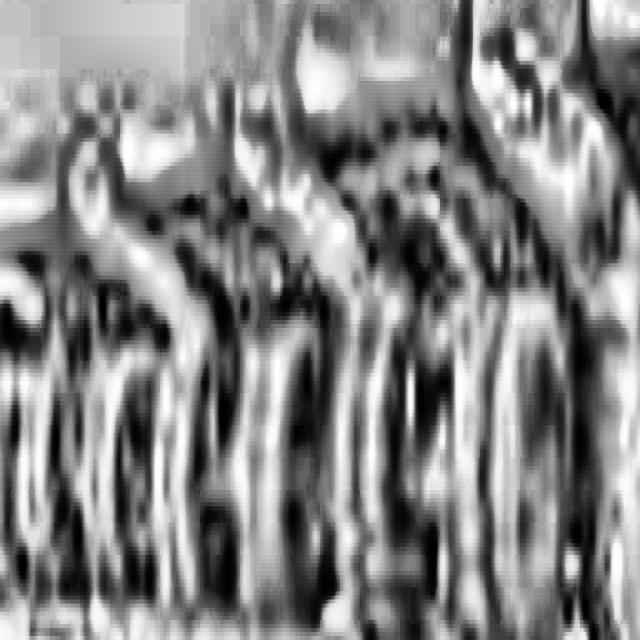dump_truck: (312, 0, 598, 636), (136, 26, 336, 605)
